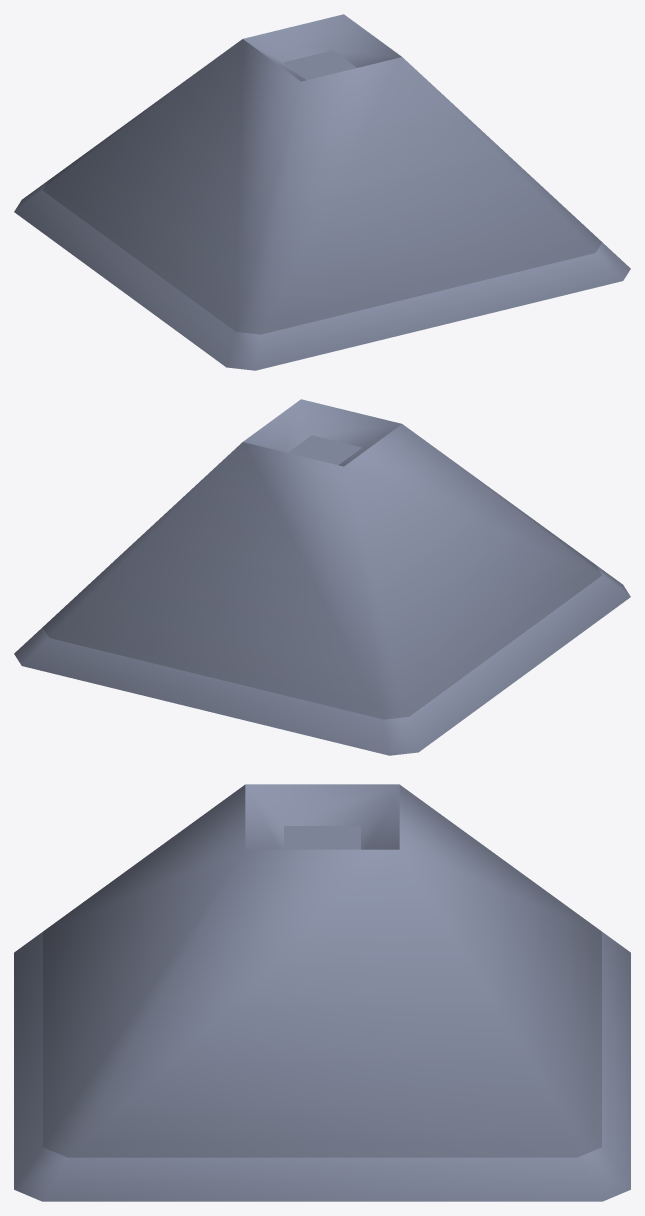
The model's file is roof-point.glb.
The picture shows the model from 3 angles, top to bottom: view 1: azimuth 30°, elevation 25°; view 2: azimuth 150°, elevation 25°; view 3: azimuth 270°, elevation 25°; orthographic projection. The views are drawn at different scales.
Parts seen in each view (by area): view 1: roof-point; view 2: roof-point; view 3: roof-point.
Part boxes in pixels (left/top/right/bottom): roof-point: left=14, top=14, right=630, bottom=370; roof-point: left=14, top=399, right=630, bottom=755; roof-point: left=14, top=784, right=630, bottom=1201.
Bounding box in the file's own units: 1.1 × 0.5 × 1.1.
Materials: 1 (1 with a texture image).
